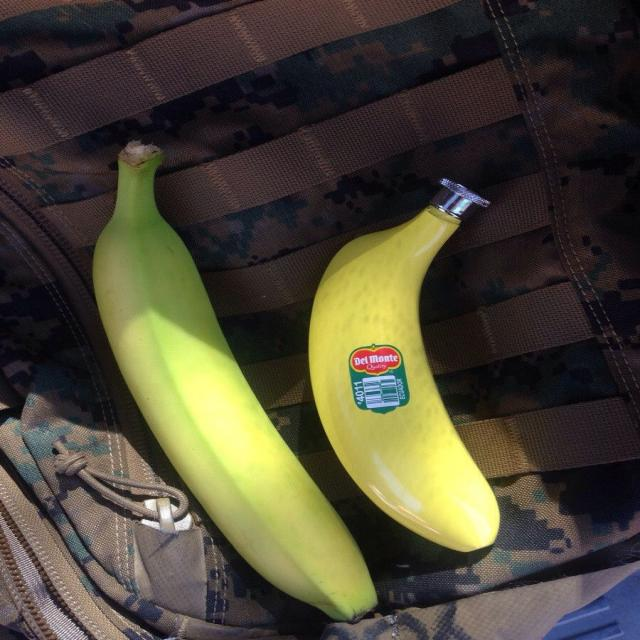Banana: (84, 140, 384, 619), (310, 212, 514, 552)
